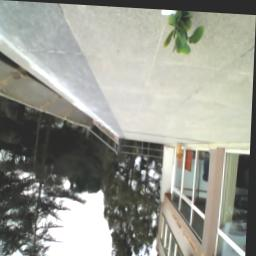herb: (163, 10, 206, 57)
